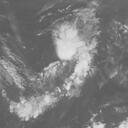cyclone: (52, 20, 95, 76)
